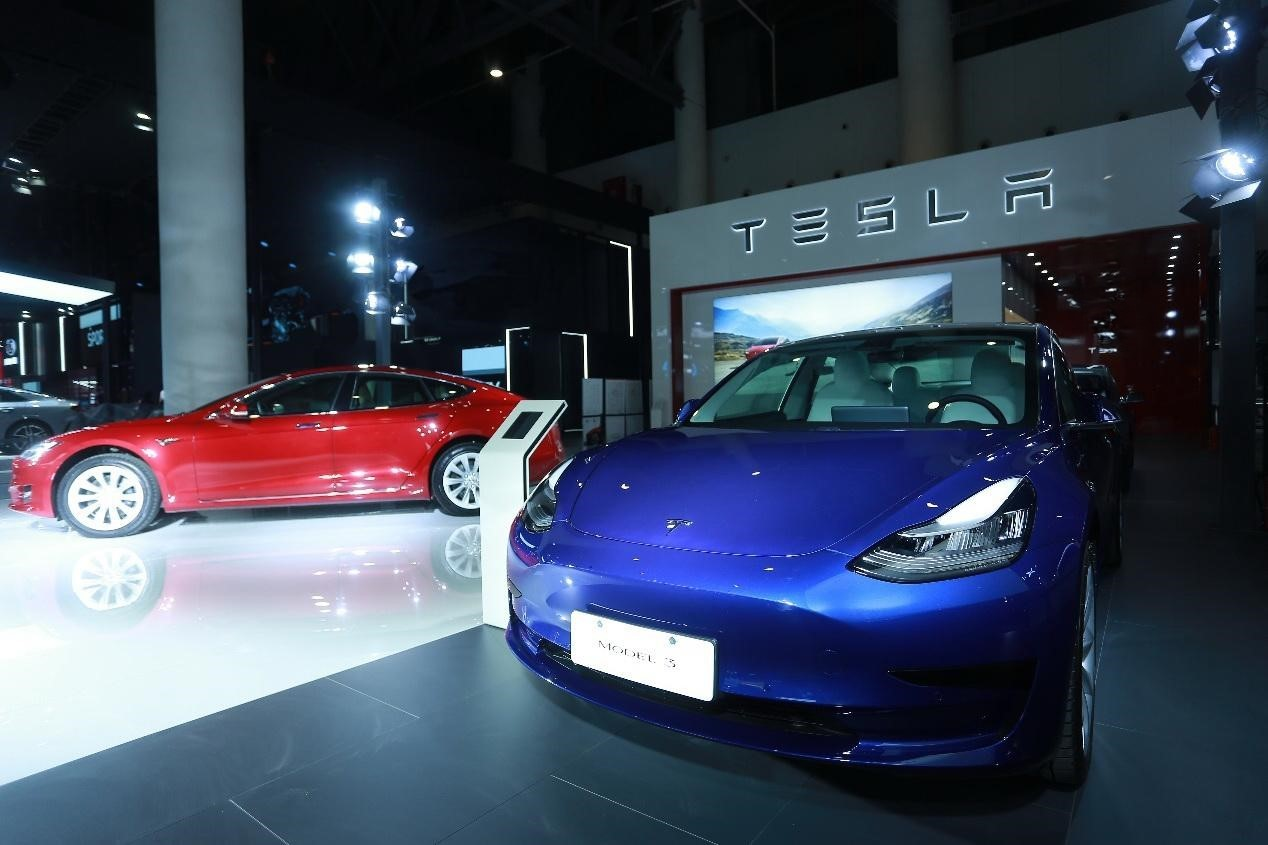Tesla: (665, 518, 694, 536)
